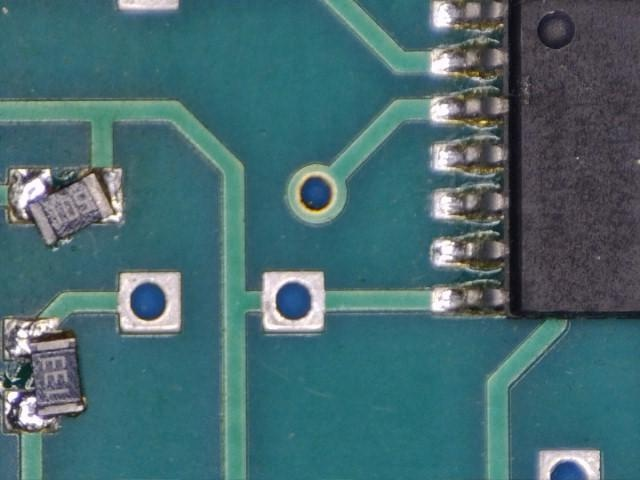pcb_defect: (2, 317, 88, 435), (9, 167, 124, 248)
